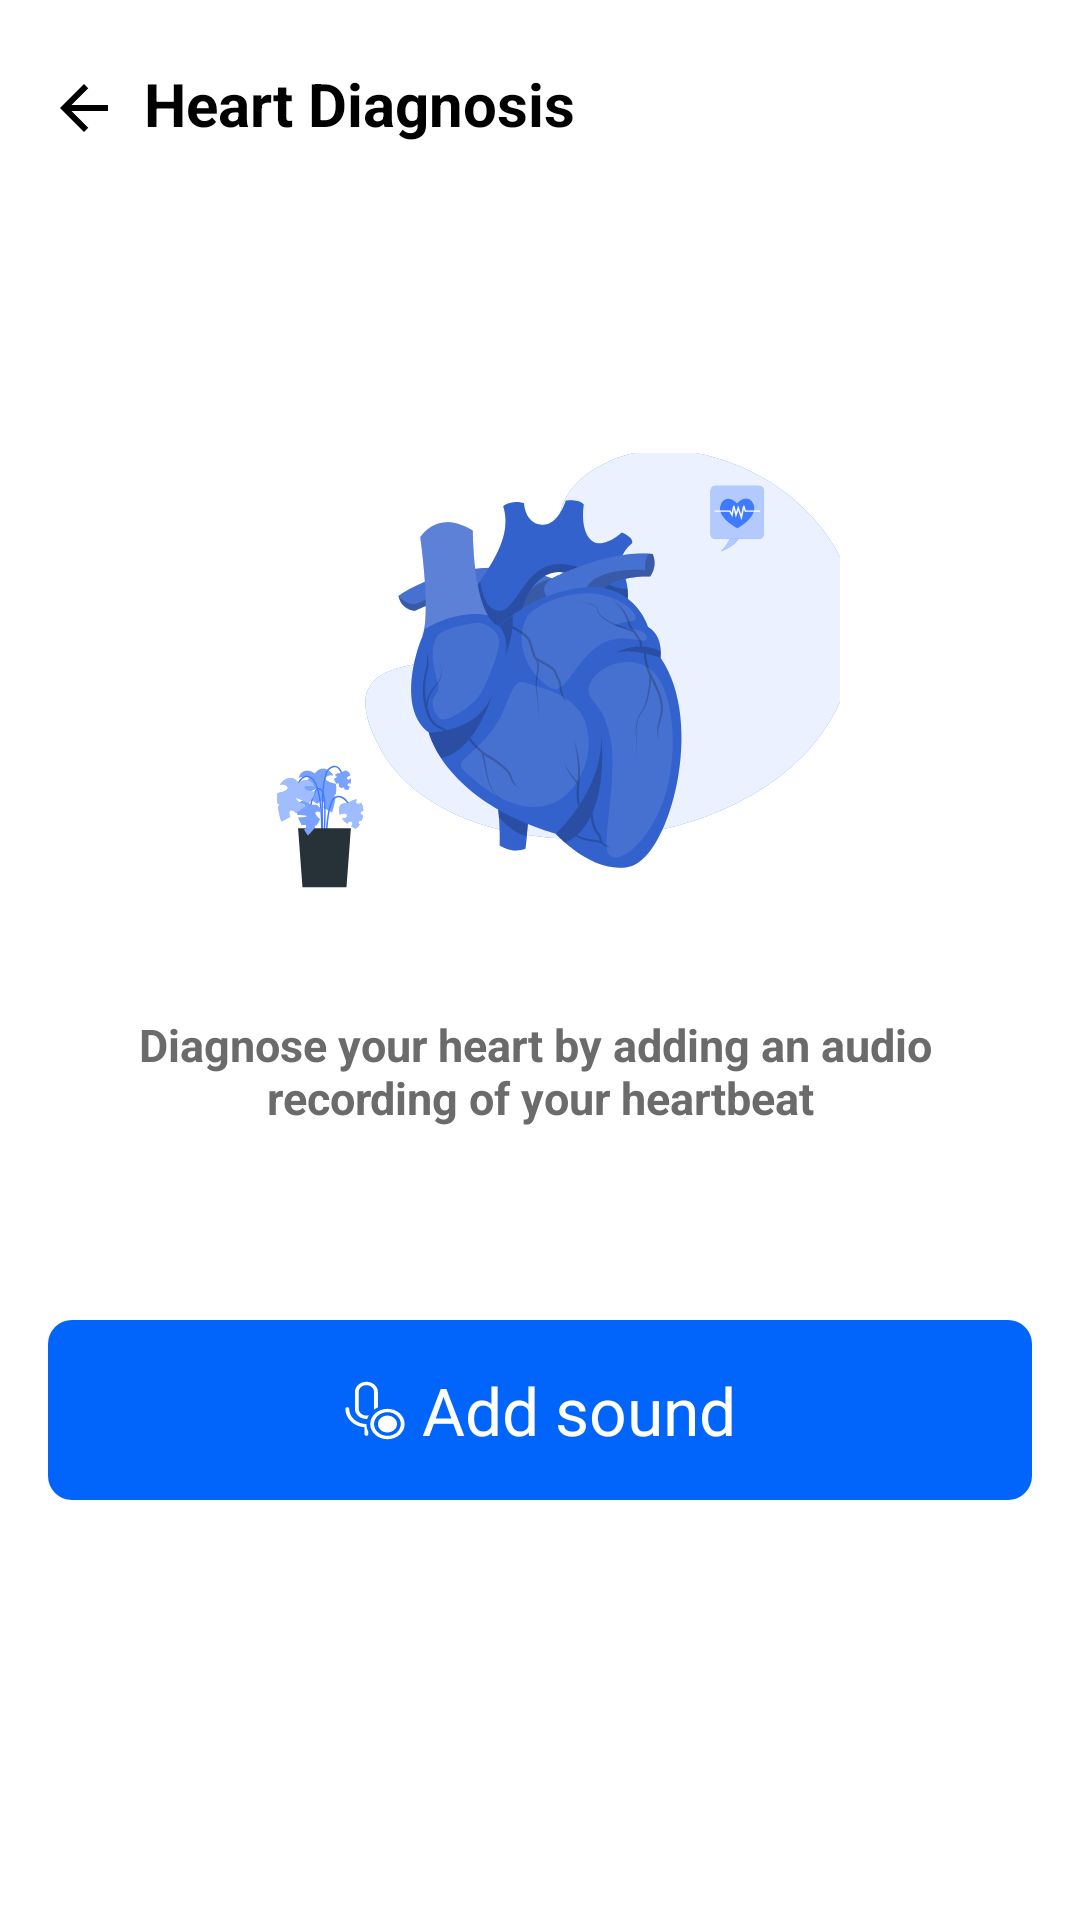

Icons on this 1080 × 1920 Android screen, each with its box as (x1, y1, x2, y2):
left arrow: (60, 84, 108, 132)
